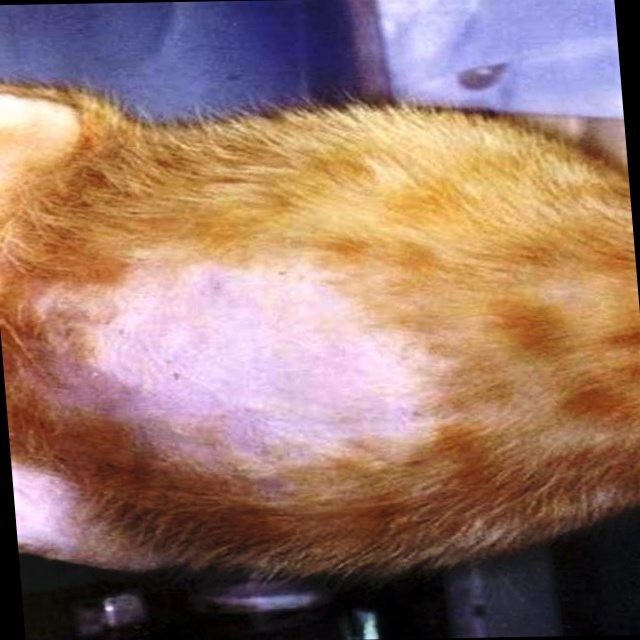hairloss: (79, 263, 442, 438)
